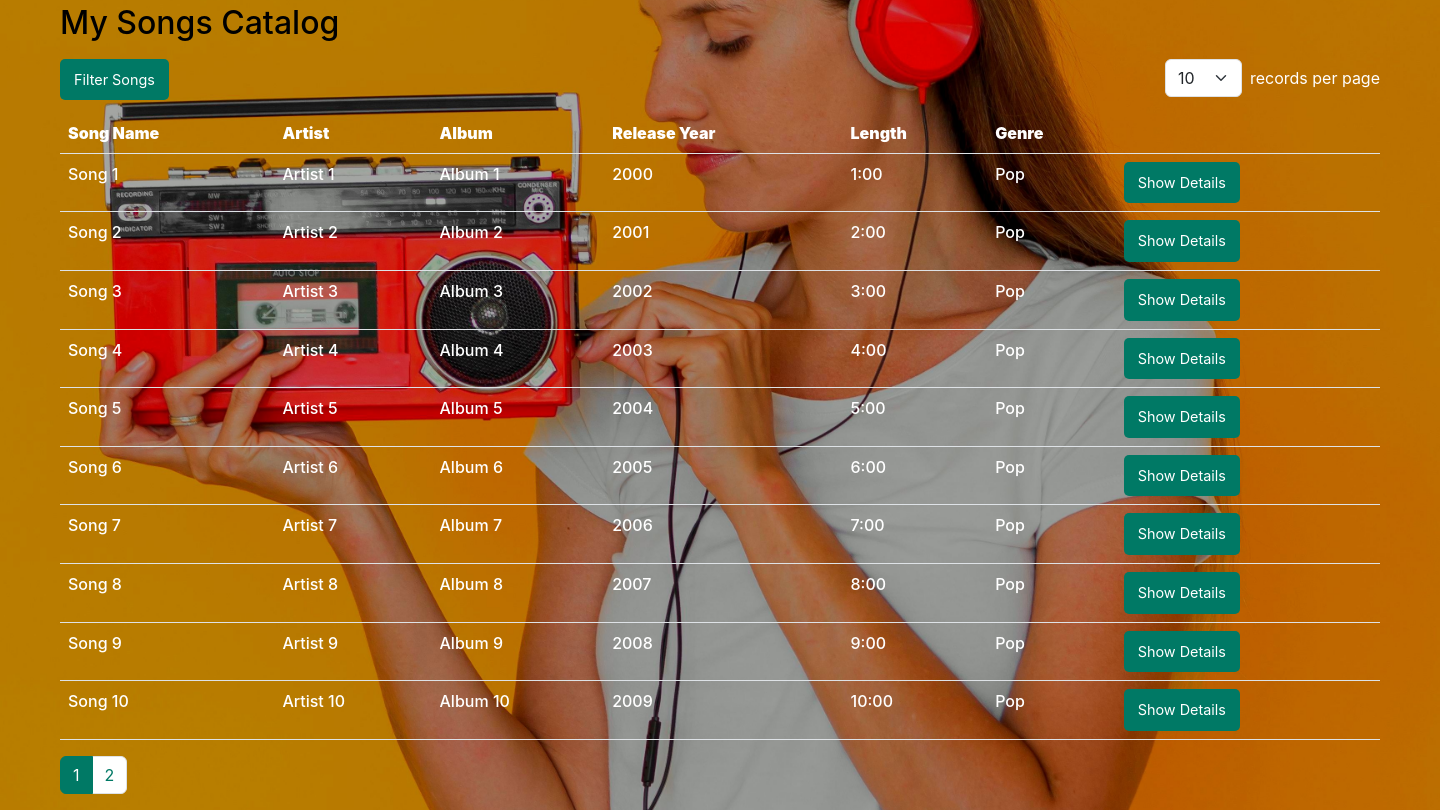
Test: SongCatalog component › paginates songs correctly
(page scrolled)
Expected: the list named "pagination" is shown, [60,756,127,794]
Expected: the text "Song 1" is shown, [60,153,274,212]
// Click on the next page button
What coordinates should you click on to do the following:
click the button named "Page number"
I would click on:
 (109, 775)
Its box is [92,756,127,794].
(page scrolled)
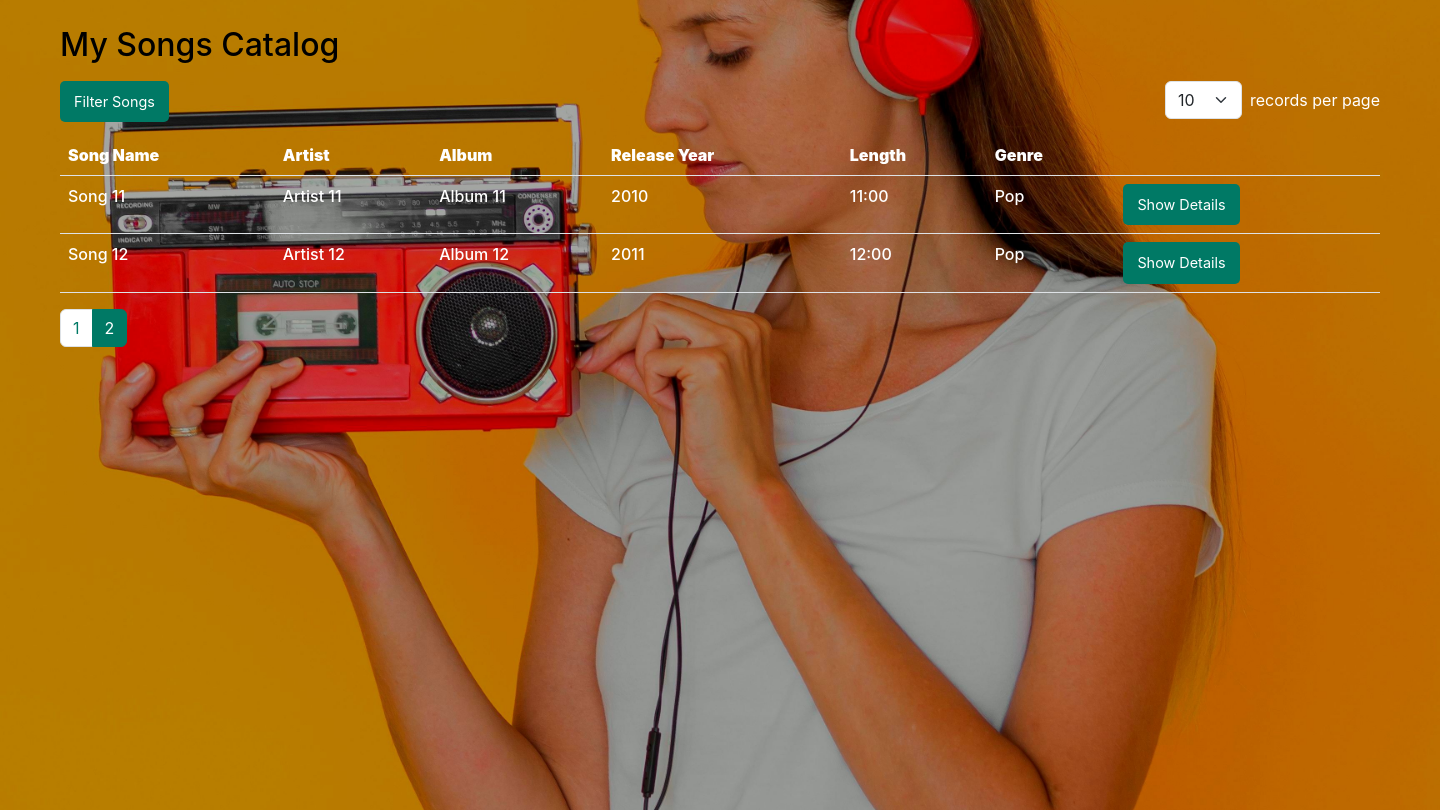
Expected: the text "Song 11" is shown, [60,175,275,234]
Expected: the text "Song 12" is shown, [60,234,275,292]
